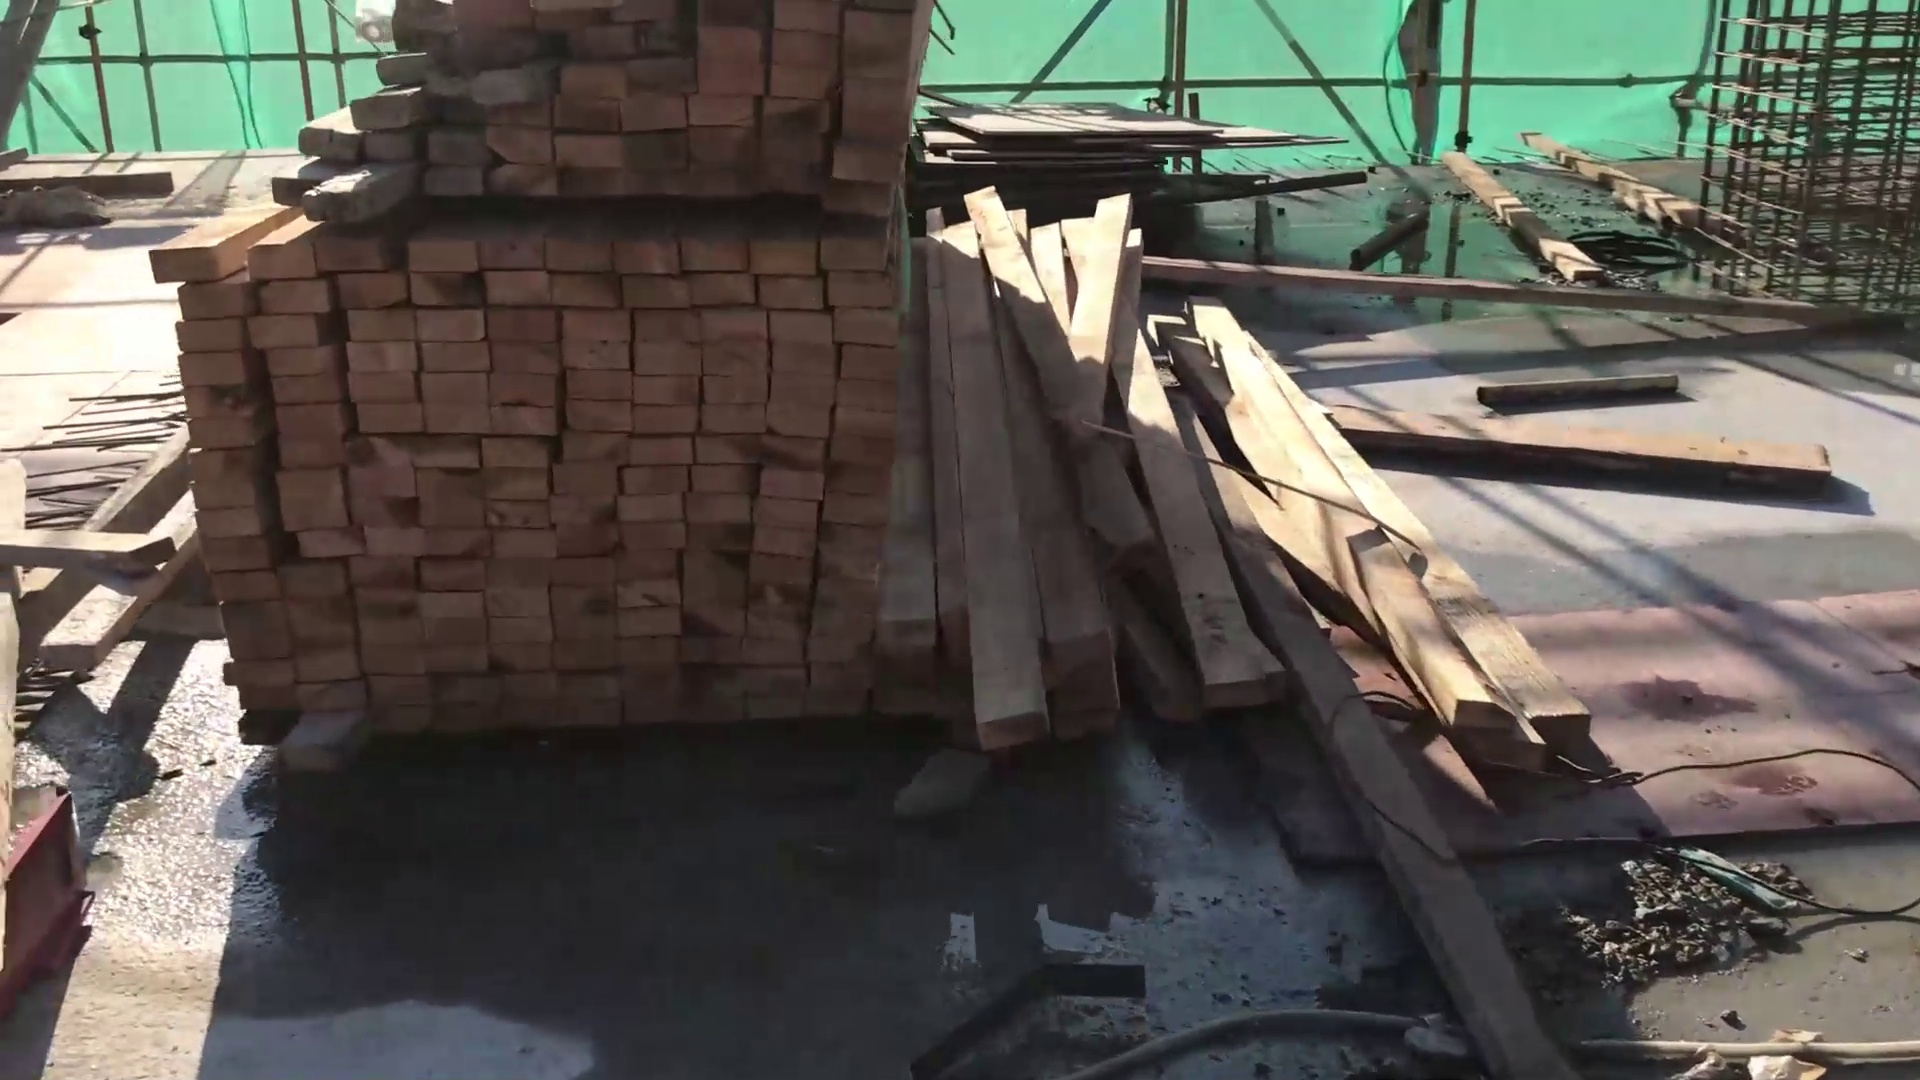wood: (142, 186, 1054, 740), (224, 1, 986, 233)
